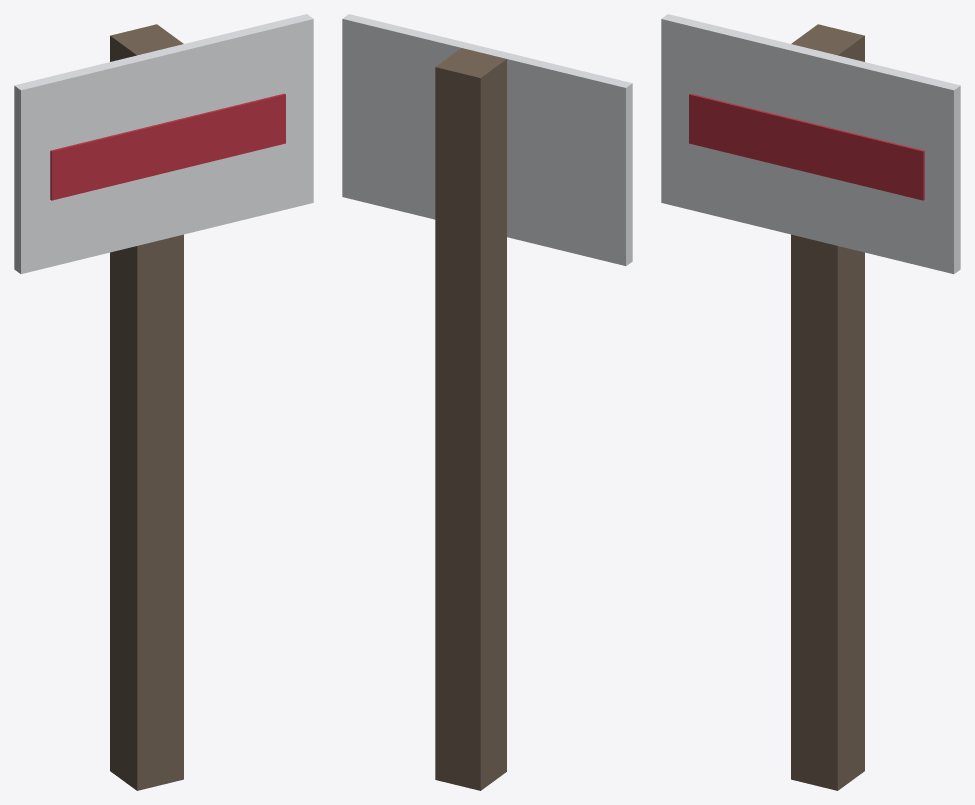
File: trail_marker.glb
The picture shows the model from 3 angles, left to right: view 1: azimuth 30°, elevation 25°; view 2: azimuth 150°, elevation 25°; view 3: azimuth 330°, elevation 25°; orthographic projection. The views are drawn at different scales.
Visible parts, largest first — view 1: trail_marker; view 2: trail_marker; view 3: trail_marker.
Boxes of the visible parts, x1,y1,x2,y2 form: trail_marker: [14, 14, 313, 790]; trail_marker: [342, 14, 632, 790]; trail_marker: [661, 14, 960, 790].
Size of the model in its own units: 0.5 by 1.2 by 0.104.
